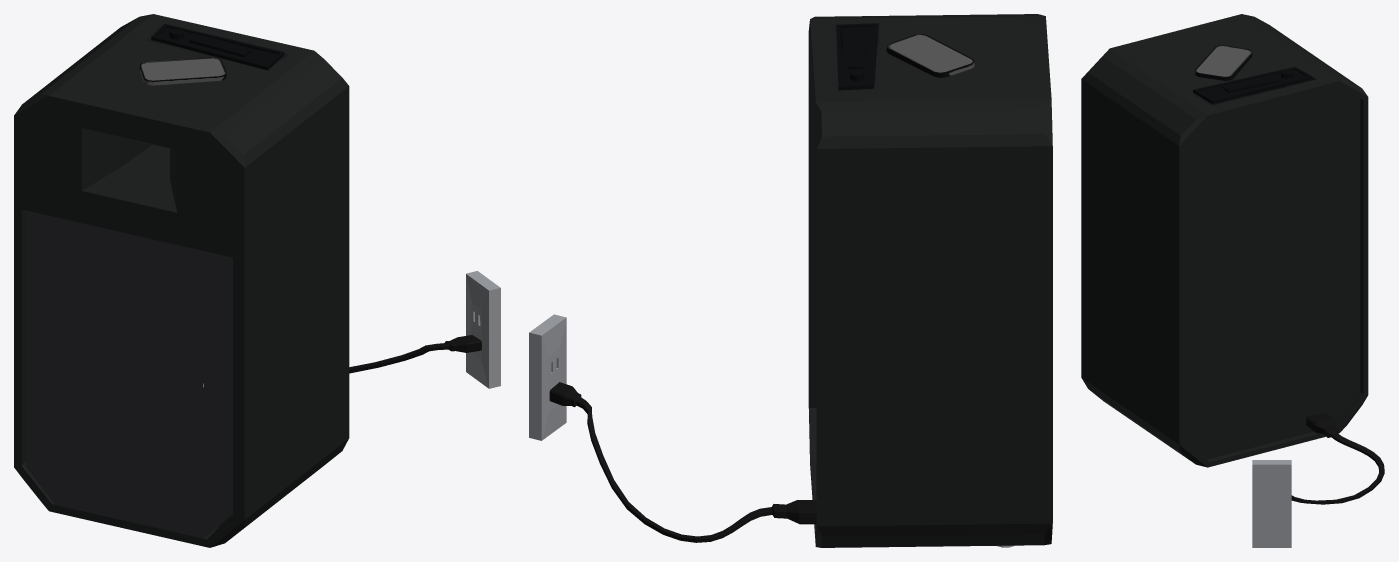
The model's file is Speaker_Bake.fbx.
The picture shows the model from 3 angles, left to right: view 1: azimuth 30°, elevation 25°; view 2: azimuth 150°, elevation 25°; view 3: azimuth 270°, elevation 25°; orthographic projection. The views are drawn at different scales.
Visible parts, largest first — view 1: Speaker_Bake; view 2: Speaker_Bake; view 3: Speaker_Bake.
Part boxes in pixels (x1,y1,x2,y2): Speaker_Bake: [14, 14, 500, 547]; Speaker_Bake: [529, 14, 1052, 547]; Speaker_Bake: [1081, 14, 1384, 547].
Bounding box in the file's own units: 68.32 × 105 × 90.91.
Materials: 1 (1 with a texture image).
